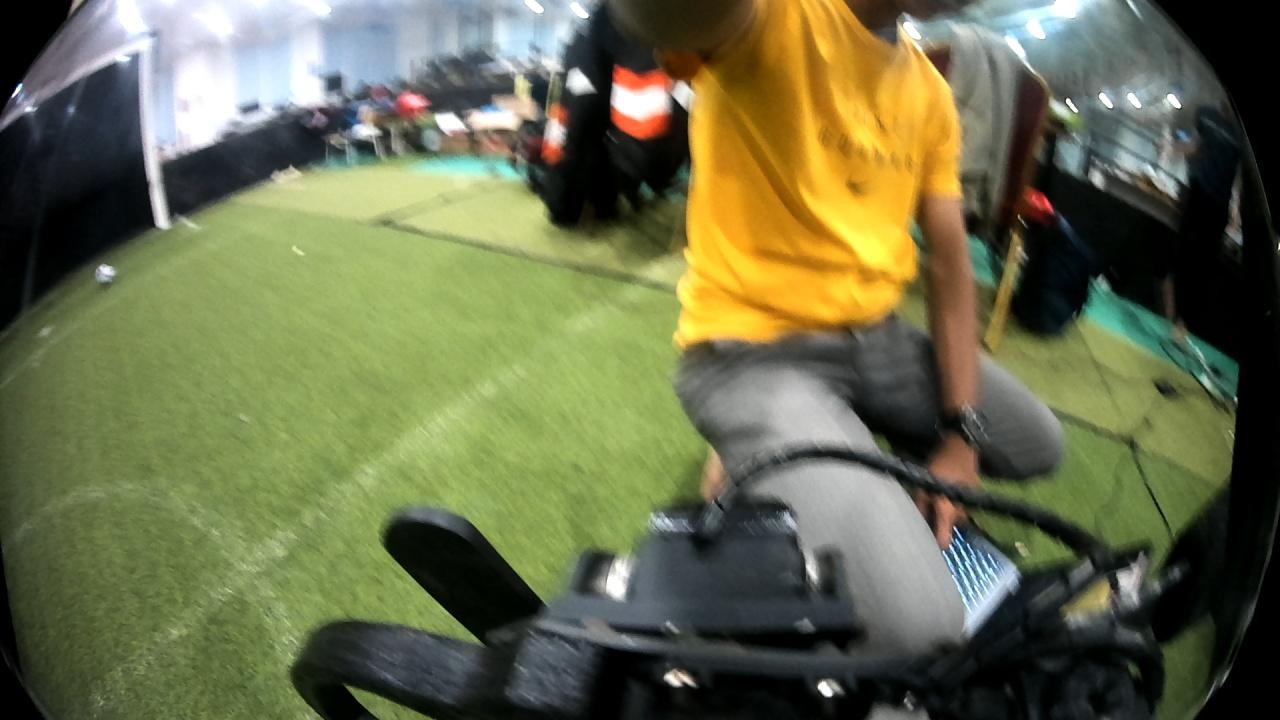ball: (92, 260, 118, 290)
